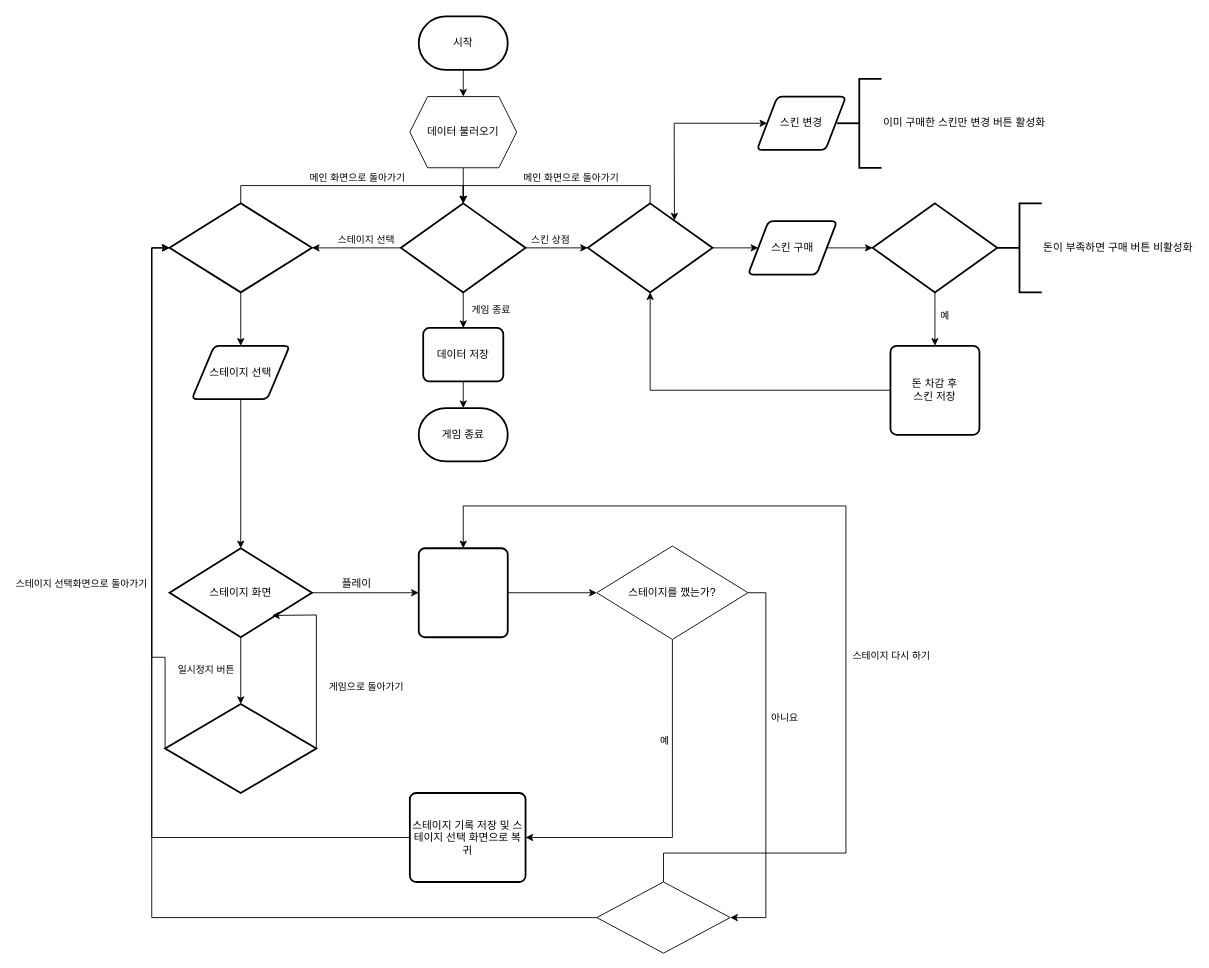
This 1209x968 diagram has some shape labels left out. The shapes that lost their labels are listed below. From the top down, each one's centre as x and y in pixels, then its label:
point 240,247: 스테이지 선택 화면
point 463,247: 메인 화면
point 650,247: 스킨 상점 화면
point 934,247: 돈이 충분한가?
point 462,592: 스테이지 플레이
point 240,748: 일시정지 화면
point 663,917: 게임 오버 화면
